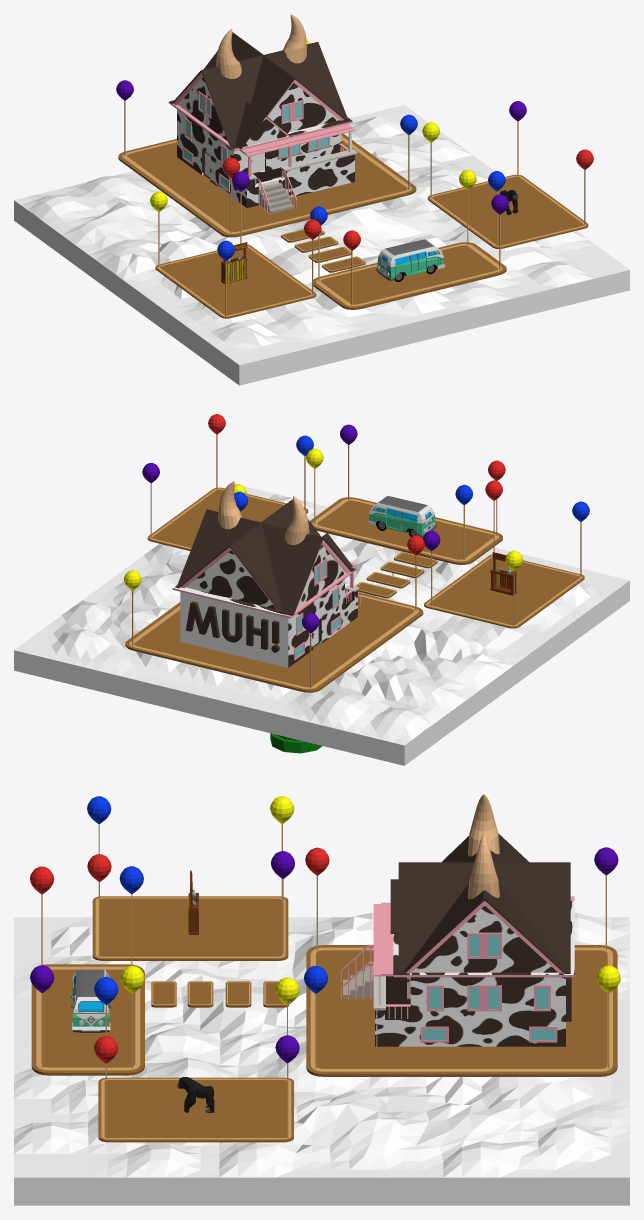
3 views of the same model, one above another, from view 1: azimuth 30°, elevation 25°; view 2: azimuth 150°, elevation 25°; view 3: azimuth 270°, elevation 25° (orthographic). The views are drawn at different scales.
Visible parts, largest first — view 1: Cube.013, Cube.1242, VEHICLES_VAN, OBJRANDOM_LEMONADE_STAND; view 2: Cube.013, Cube.1242, VEHICLES_VAN, OBJRANDOM_LEMONADE_STAND, UNDERGROUND_PIPES; view 3: Cube.013, Cube.1242, VEHICLES_VAN, ANIMAL_GORILA.
Part boxes in pixels (box(x1,y1,x2,y2)): Cube.013: box(14, 38, 629, 385); Cube.1242: box(168, 14, 357, 214); VEHICLES_VAN: box(376, 239, 445, 281); OBJRANDOM_LEMONADE_STAND: box(221, 242, 247, 283); Cube.013: box(14, 414, 629, 765); Cube.1242: box(172, 481, 360, 667); VEHICLES_VAN: box(367, 496, 436, 537); OBJRANDOM_LEMONADE_STAND: box(490, 552, 516, 595); UNDERGROUND_PIPES: box(270, 733, 322, 753); Cube.013: box(14, 796, 629, 1205); Cube.1242: box(340, 794, 574, 1046); VEHICLES_VAN: box(71, 969, 111, 1032); ANIMAL_GORILA: box(177, 1077, 214, 1112).
Bounding box in the file's own units: 4000 × 2530 × 4000.
40 materials, 1 textured.
